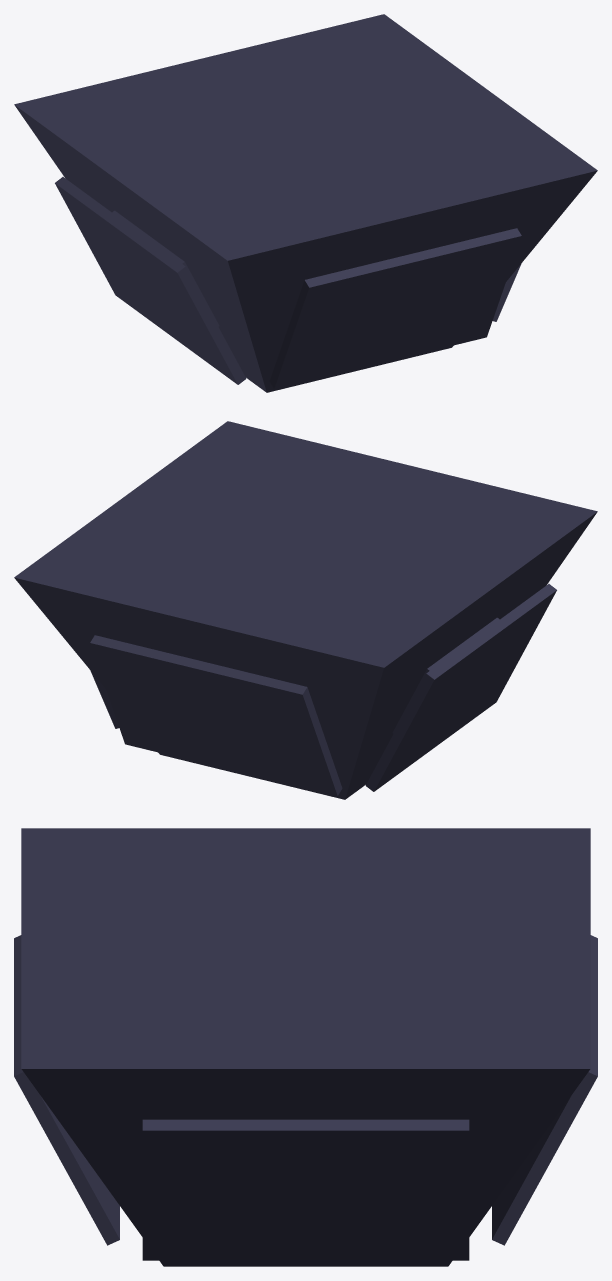
The model's file is SkyTimer.fbx.
The picture shows the model from 3 angles, top to bottom: view 1: azimuth 30°, elevation 25°; view 2: azimuth 150°, elevation 25°; view 3: azimuth 270°, elevation 25°; orthographic projection. The views are drawn at different scales.
Parts seen in each view (by area): view 1: Cube; view 2: Cube; view 3: Cube.
Boxes of the visible parts, x1=… form: Cube: x1=14, y1=14, x2=597, y2=392; Cube: x1=14, y1=421, x2=597, y2=799; Cube: x1=14, y1=828, x2=597, y2=1266.
Size of the model in its own units: 410 by 200 by 410.
